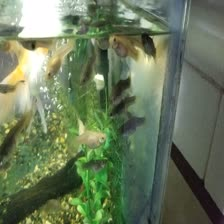Cuezo: (0, 34, 54, 131)
Guppy: (0, 104, 33, 168), (45, 37, 77, 82), (106, 34, 139, 62), (78, 38, 95, 89), (106, 94, 137, 118), (67, 127, 108, 145), (115, 114, 148, 136), (75, 154, 113, 170), (105, 77, 132, 99), (138, 32, 156, 60)
